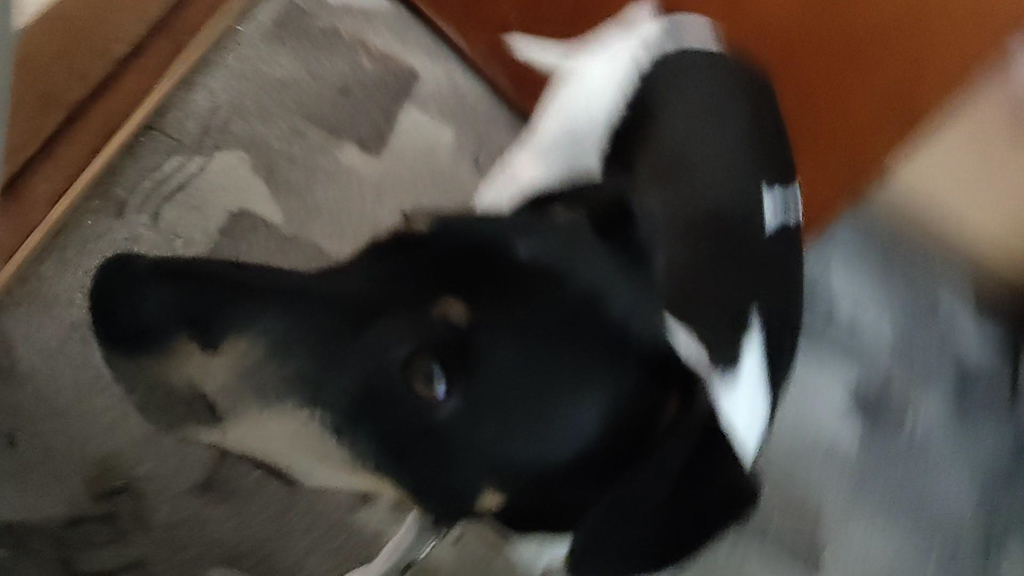Dog: (74, 0, 820, 576)
